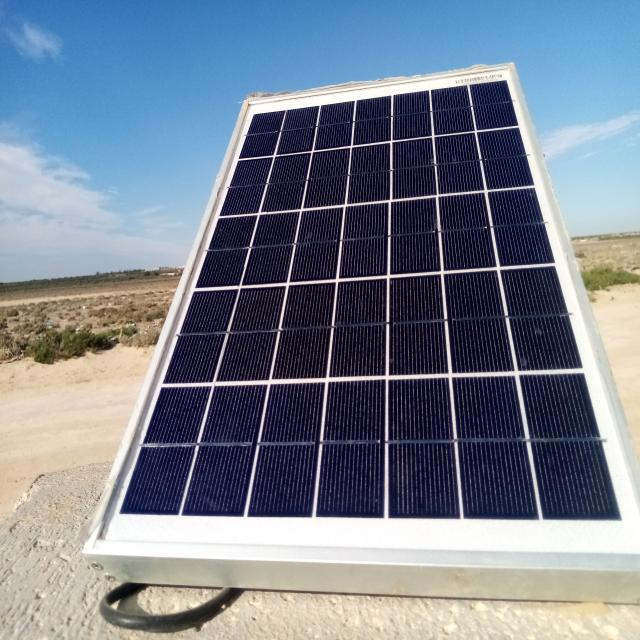no faulty: (91, 64, 640, 562)
